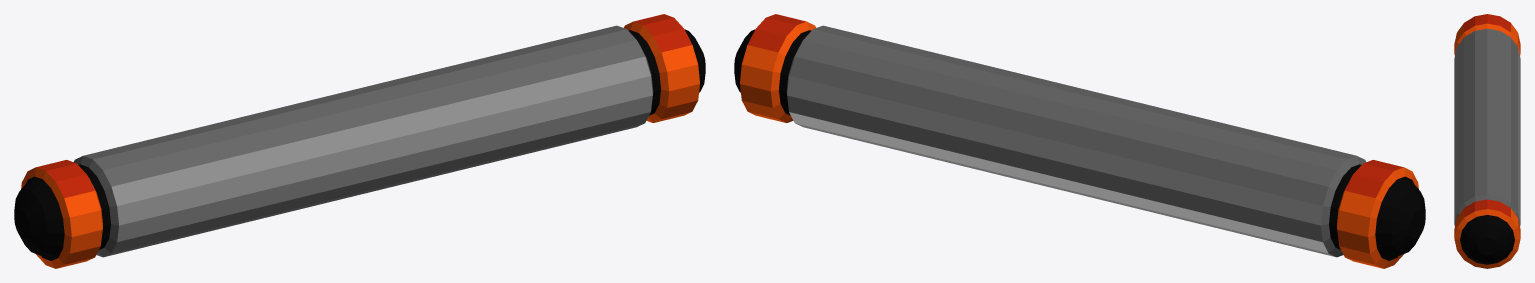
The model's file is paddle_big.glb.
3 views of the same model, side by side, from view 1: azimuth 30°, elevation 25°; view 2: azimuth 150°, elevation 25°; view 3: azimuth 270°, elevation 25° (orthographic). The views are drawn at different scales.
Visible parts, largest first — view 1: 0paddle, L_black, R_black; view 2: 0paddle, L_black, R_black; view 3: 0paddle, R_black.
Boxes of the visible parts, left/top/right/bottom form: 0paddle: left=21, top=14, right=699, bottom=268; L_black: left=14, top=177, right=64, bottom=259; R_black: left=684, top=29, right=705, bottom=92; 0paddle: left=740, top=14, right=1418, bottom=268; L_black: left=1375, top=177, right=1425, bottom=259; R_black: left=734, top=29, right=755, bottom=92; 0paddle: left=1454, top=14, right=1520, bottom=268; R_black: left=1460, top=215, right=1514, bottom=263.
Bounding box in the file's own units: 0.45 × 0.06 × 0.06.
1 material, 1 textured.
